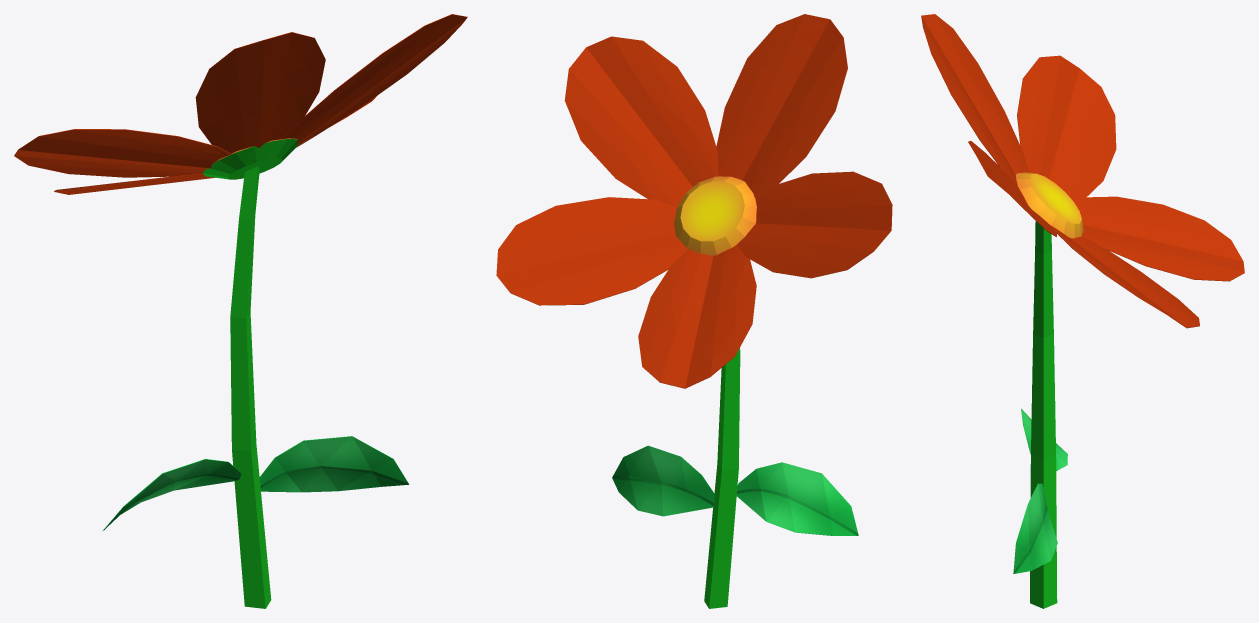
Rendered from flower2.obj.
3 renders of one model, left to right at view 1: azimuth 30°, elevation 25°; view 2: azimuth 150°, elevation 25°; view 3: azimuth 270°, elevation 25°, orthographic. The views are drawn at different scales.
Visible parts, largest first — view 1: flower2.008_Circle.041; view 2: flower2.008_Circle.041; view 3: flower2.008_Circle.041.
Boxes of the visible parts, x1=… form: flower2.008_Circle.041: x1=14, y1=14, x2=467, y2=608; flower2.008_Circle.041: x1=496, y1=14, x2=892, y2=608; flower2.008_Circle.041: x1=921, y1=14, x2=1244, y2=608.
Bounding box in the file's own units: 0.9718 × 1.44 × 0.7529.
